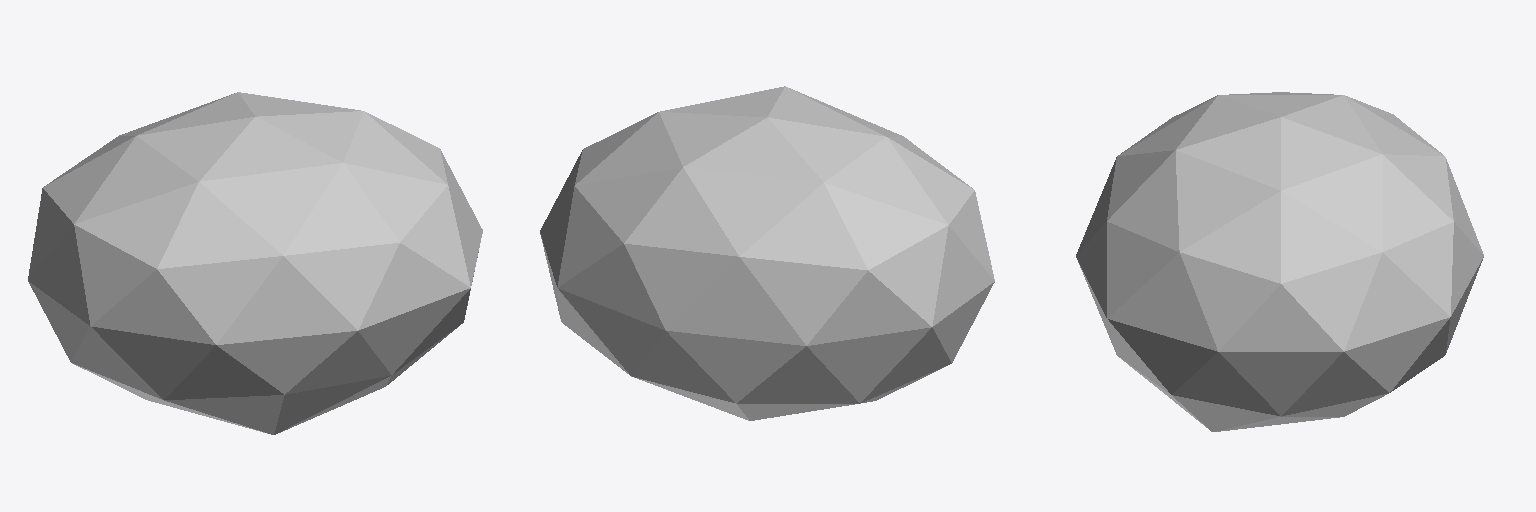
The model's file is rockbarrier.obj.
3 renders of one model, left to right at view 1: azimuth 30°, elevation 25°; view 2: azimuth 150°, elevation 25°; view 3: azimuth 270°, elevation 25°, orthographic.
Parts seen in each view (by area): view 1: Icosphere; view 2: Icosphere; view 3: Icosphere.
Part boxes in pixels (left/top/right/bottom): Icosphere: left=28, top=92, right=482, bottom=434; Icosphere: left=540, top=86, right=994, bottom=420; Icosphere: left=1076, top=92, right=1483, bottom=431.
Bounding box in the file's own units: 14.44 × 9.77 × 13.02.